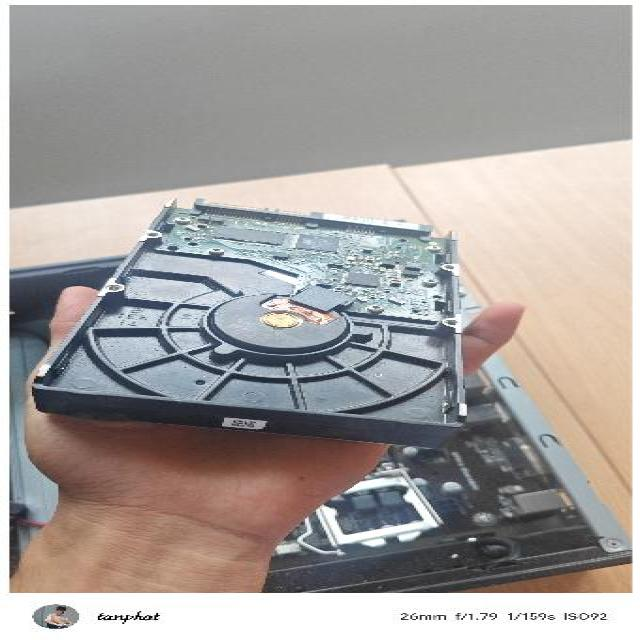DISK: (27, 194, 479, 446)
